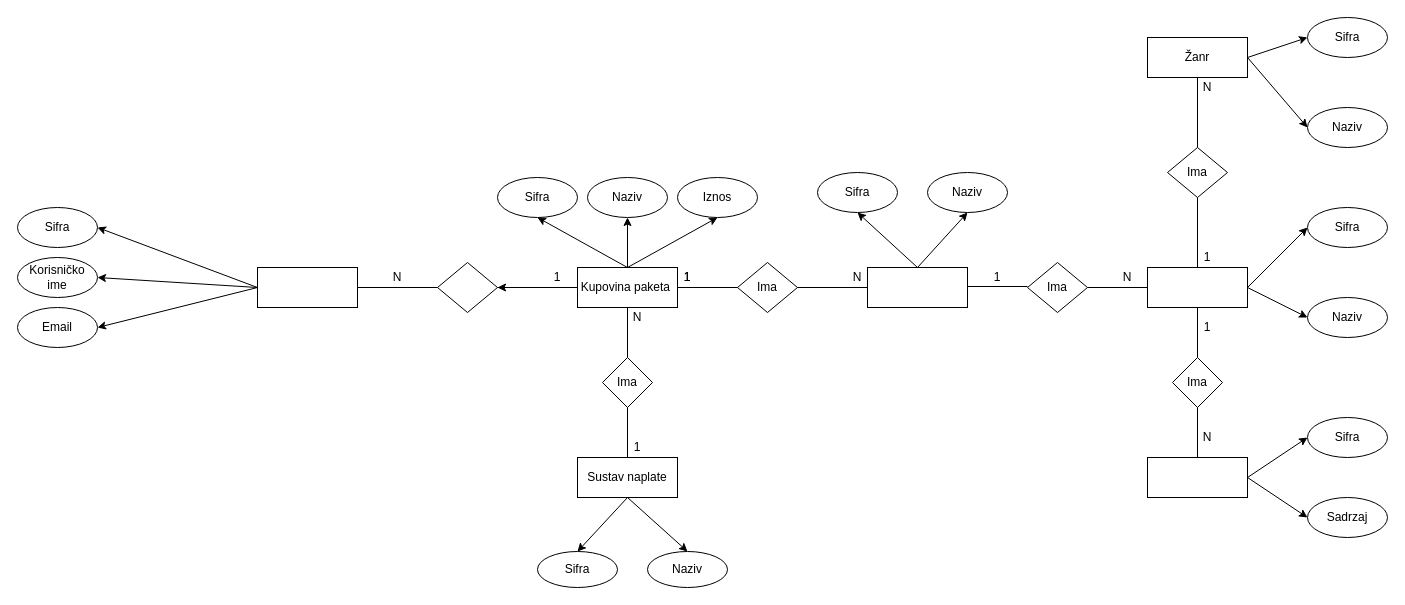
Image size: 1405x605. Some labels were removed from this diagram. The box of each missing label's shape, as (x1, y1, x2, y2) in pixels:
Kanal: (866, 266, 968, 308)
Korisnik: (256, 266, 358, 308)
Radi: (436, 262, 498, 312)
Recenzija: (1146, 456, 1248, 498)
Sadržaj: (1146, 266, 1248, 308)
